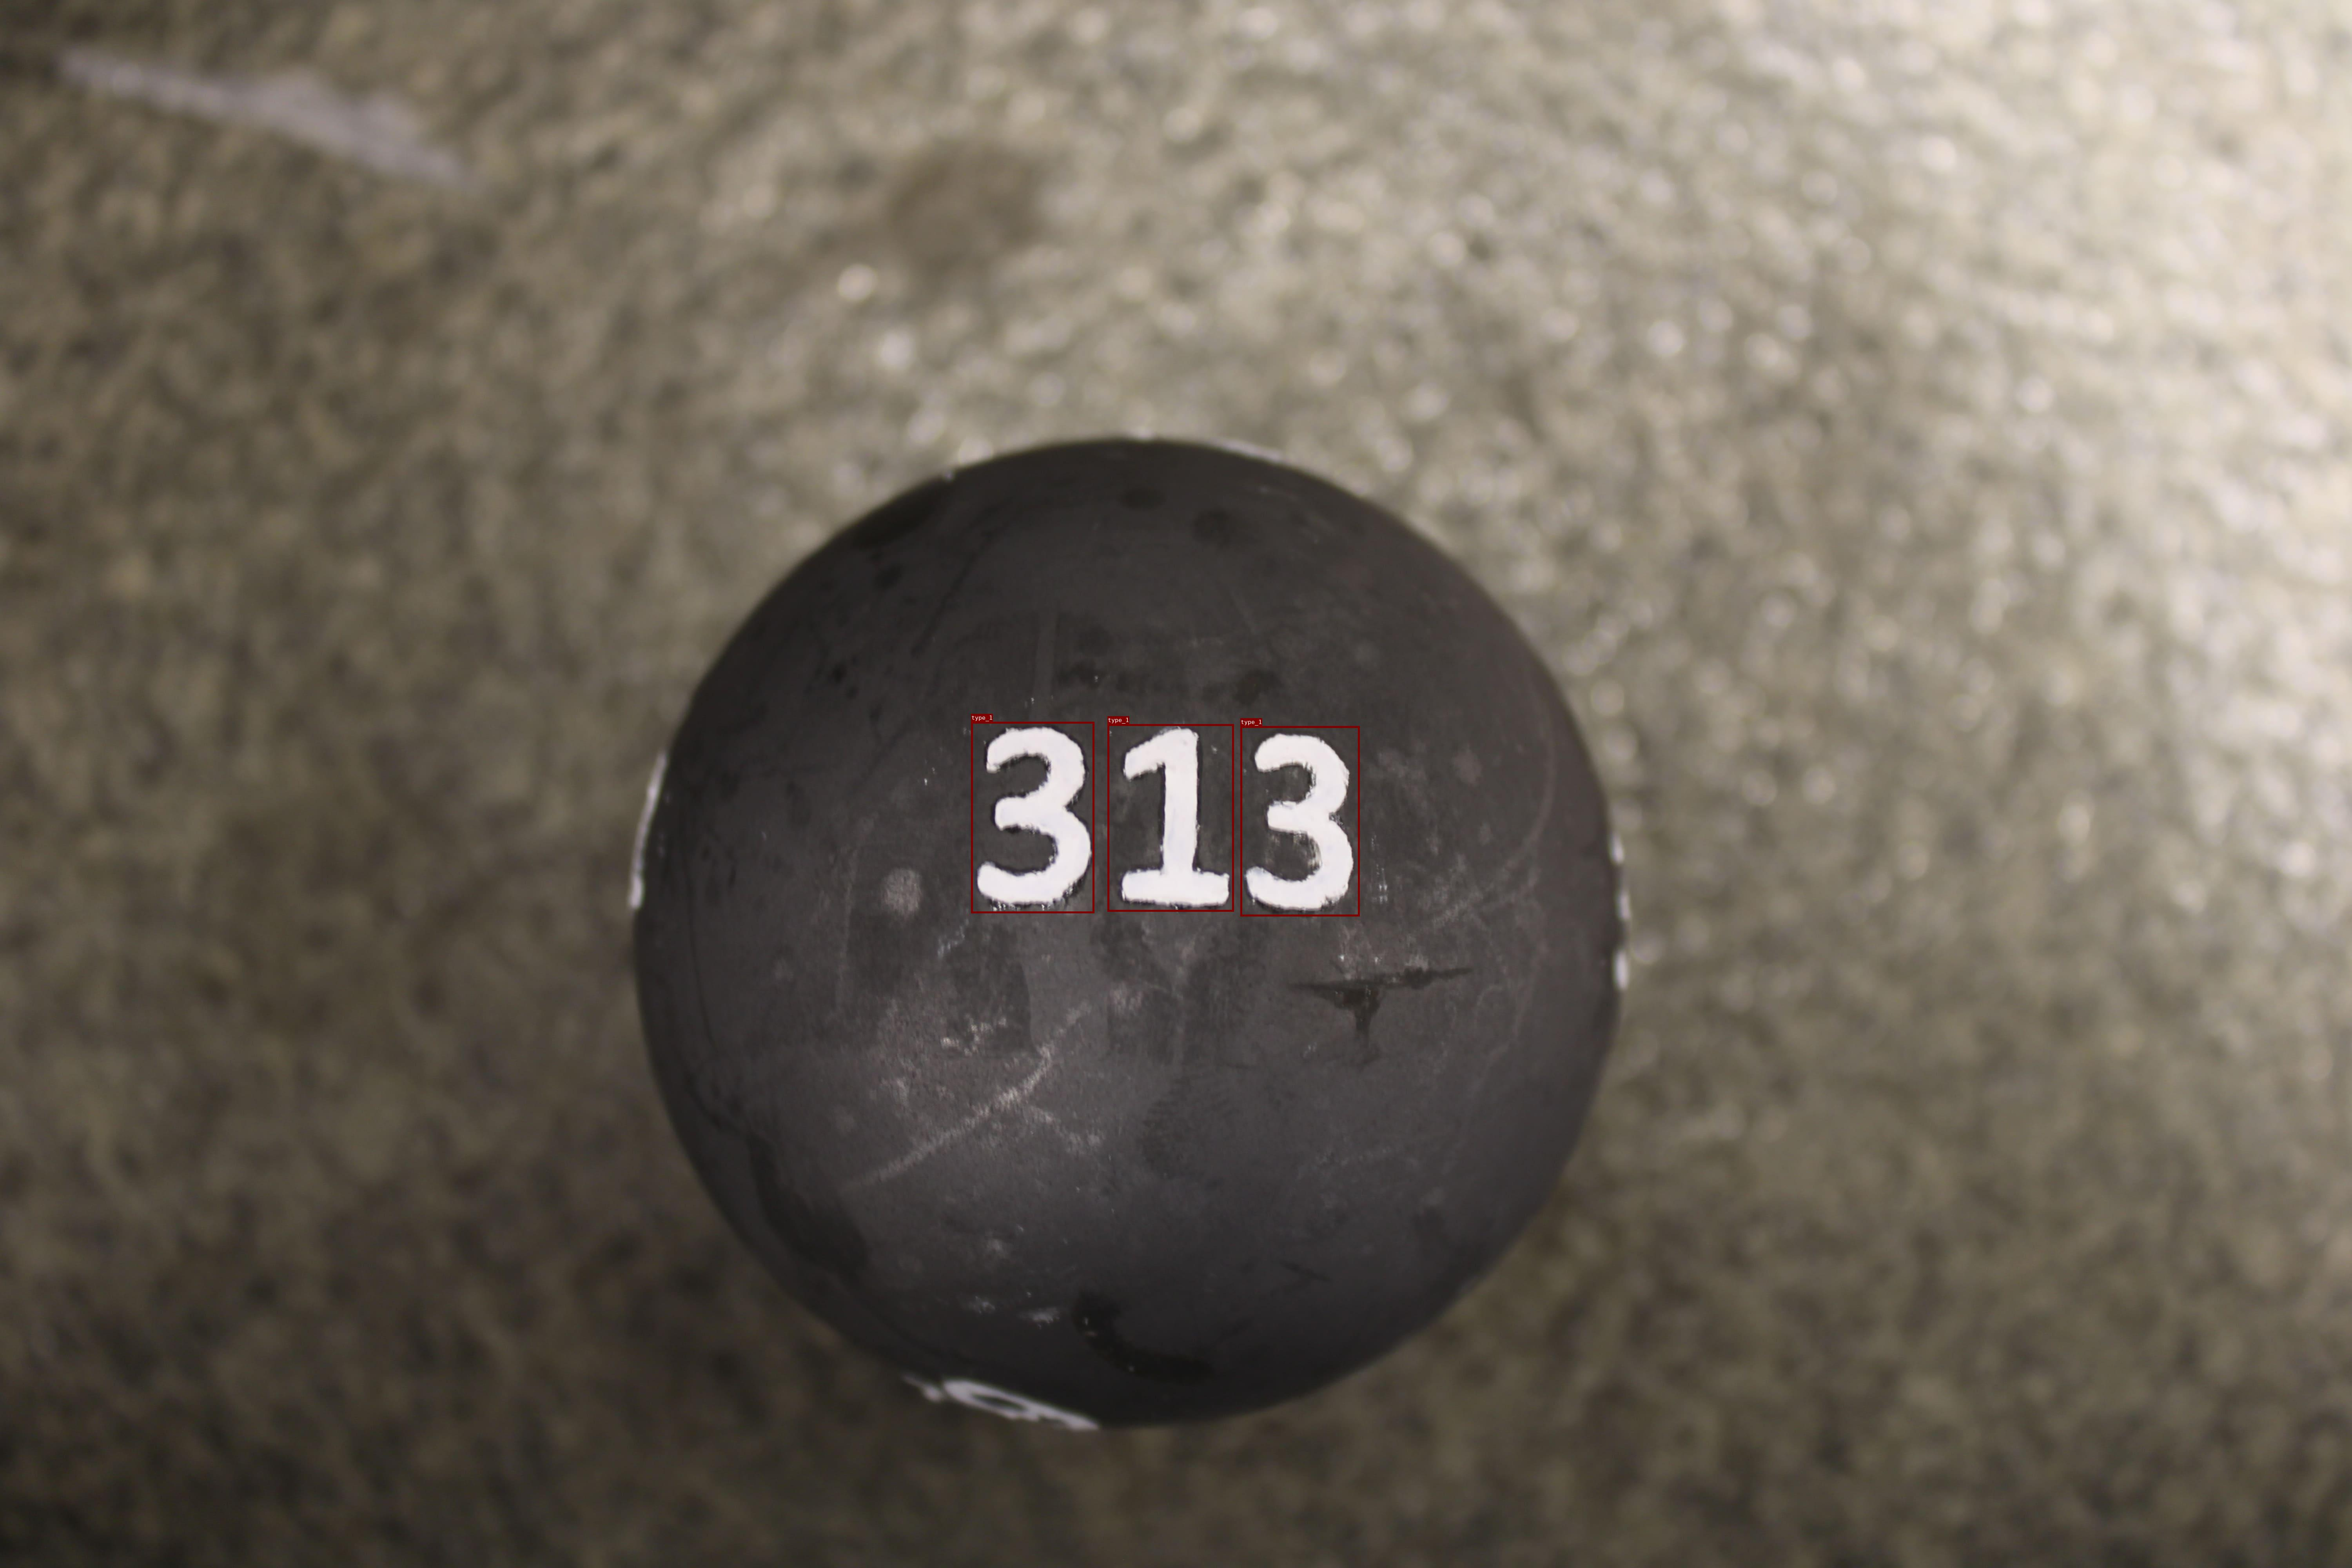type_1: (1108, 724, 1234, 912), (971, 721, 1094, 914), (1241, 726, 1360, 915)
